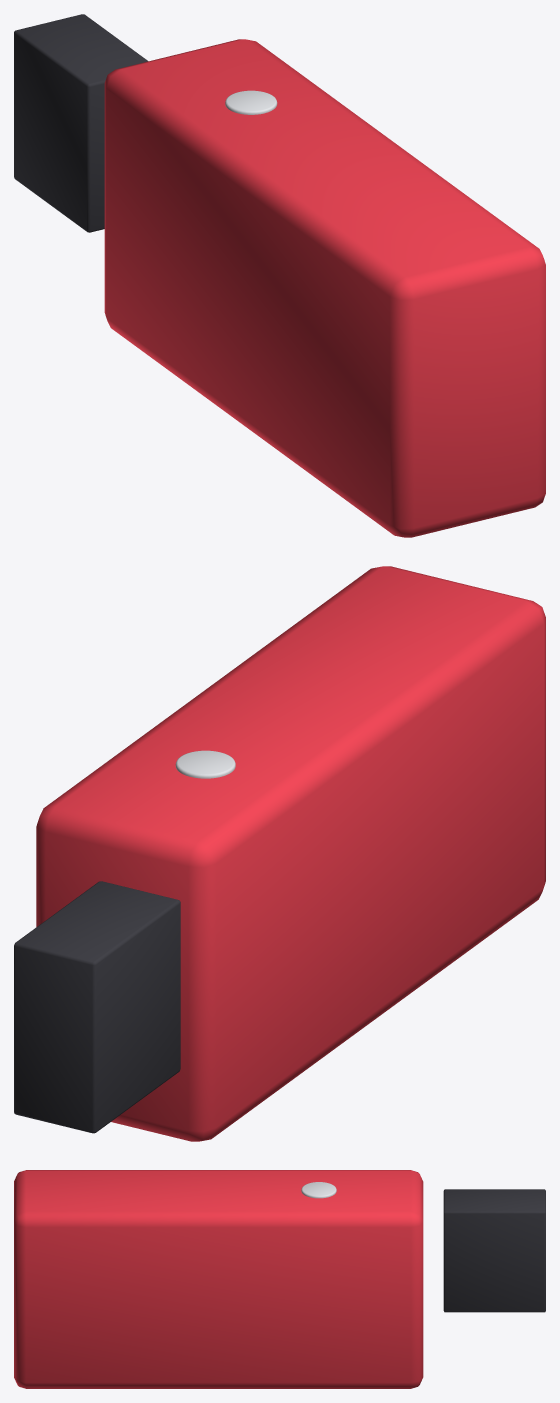
Rendered from hypercar_rear_haunch_right.glb.
The picture shows the model from 3 angles, top to bottom: view 1: azimuth 30°, elevation 25°; view 2: azimuth 150°, elevation 25°; view 3: azimuth 270°, elevation 25°; orthographic projection. The views are drawn at different scales.
Visible parts, largest first — view 1: Hypercar_Rear_Haunch_Right; view 2: Hypercar_Rear_Haunch_Right; view 3: Hypercar_Rear_Haunch_Right.
Boxes of the visible parts, x1=… form: Hypercar_Rear_Haunch_Right: x1=14, y1=14, x2=545, y2=537; Hypercar_Rear_Haunch_Right: x1=14, y1=566, x2=545, y2=1141; Hypercar_Rear_Haunch_Right: x1=14, y1=1170, x2=545, y2=1388.
Size of the model in its own units: 0.26 by 0.425 by 1.14.
